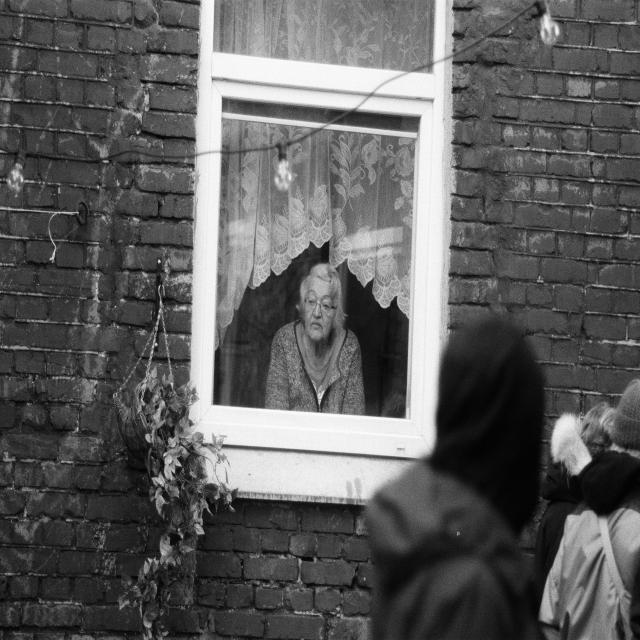adult: (262, 263, 362, 410)
